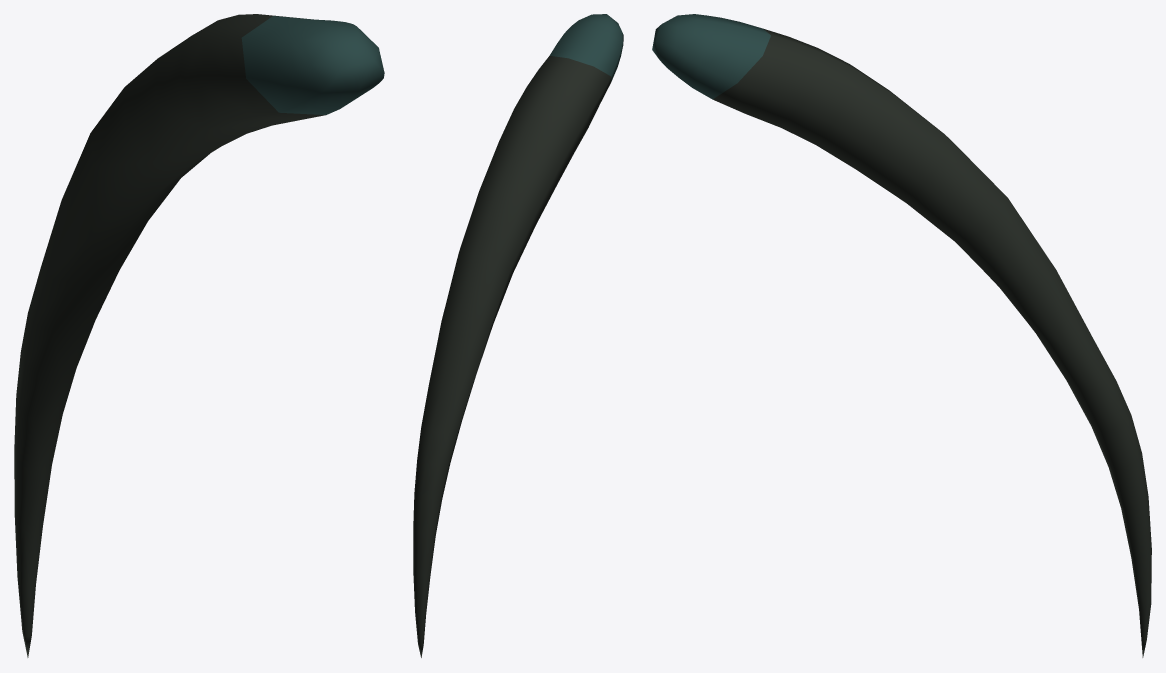
File: plants-leafy-plants-horn-sprout_v2.glb
3 views of the same model, side by side, from view 1: azimuth 30°, elevation 25°; view 2: azimuth 150°, elevation 25°; view 3: azimuth 270°, elevation 25° (orthographic). The views are drawn at different scales.
Visible parts, largest first — view 1: Horn Sprout_v2; view 2: Horn Sprout_v2; view 3: Horn Sprout_v2.
Part boxes in pixels (box(x1,y1,x2,y2)): Horn Sprout_v2: box(14, 14, 384, 657); Horn Sprout_v2: box(413, 14, 623, 657); Horn Sprout_v2: box(652, 14, 1151, 657).
Bounding box in the file's own units: 0.0275 × 0.2 × 0.1413.
